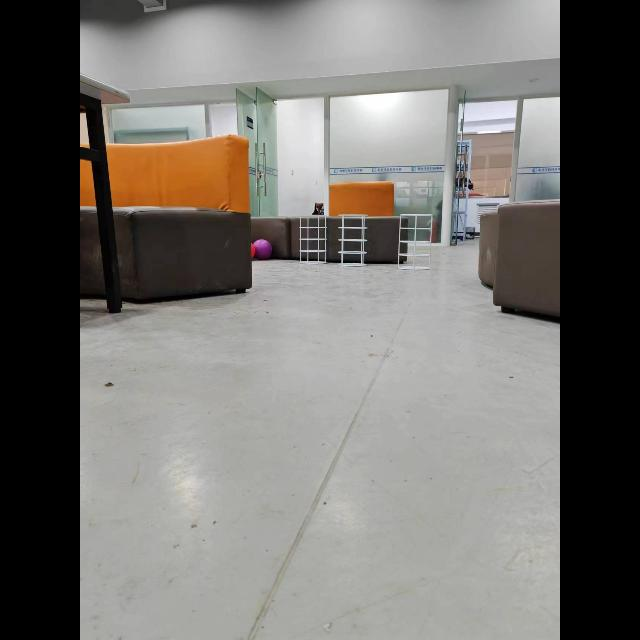R: (254, 239, 272, 260)
S: (398, 214, 432, 270), (339, 215, 366, 266), (299, 215, 326, 264)
